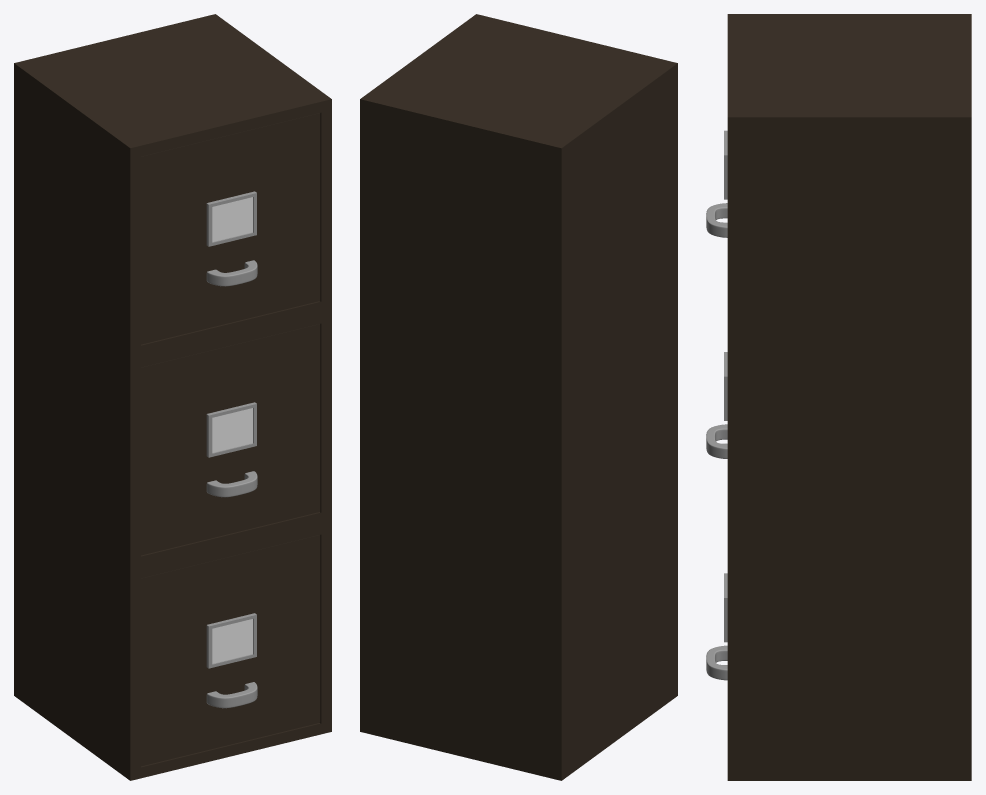
The model's file is cabinet.fbx.
3 renders of one model, left to right at view 1: azimuth 30°, elevation 25°; view 2: azimuth 150°, elevation 25°; view 3: azimuth 270°, elevation 25°, orthographic. The views are drawn at different scales.
Visible parts, largest first — view 1: Cube.004, Cube, Cube.003, Cube.005, Cube.001, Cube.002; view 2: Cube.004, Cube.002, Cube; view 3: Cube.004, Cube.002, Cube, Cube.005, Cube.003, Cube.001.
Part boxes in pixels (<box>): Cube.004: <box>14,14,331,358</box>; Cube: <box>14,485,331,780</box>; Cube.003: <box>141,324,320,555</box>; Cube.005: <box>141,113,320,344</box>; Cube.001: <box>141,535,320,766</box>; Cube.002: <box>14,274,331,569</box>; Cube.004: <box>360,14,677,358</box>; Cube.002: <box>360,274,677,569</box>; Cube: <box>360,485,677,780</box>; Cube.004: <box>727,14,971,338</box>; Cube.002: <box>727,338,971,559</box>; Cube: <box>727,559,971,780</box>; Cube.005: <box>706,130,727,237</box>; Cube.003: <box>706,352,727,458</box>; Cube.001: <box>706,573,727,680</box>.
Size of the model in its own units: 64 by 192 by 69.62.
